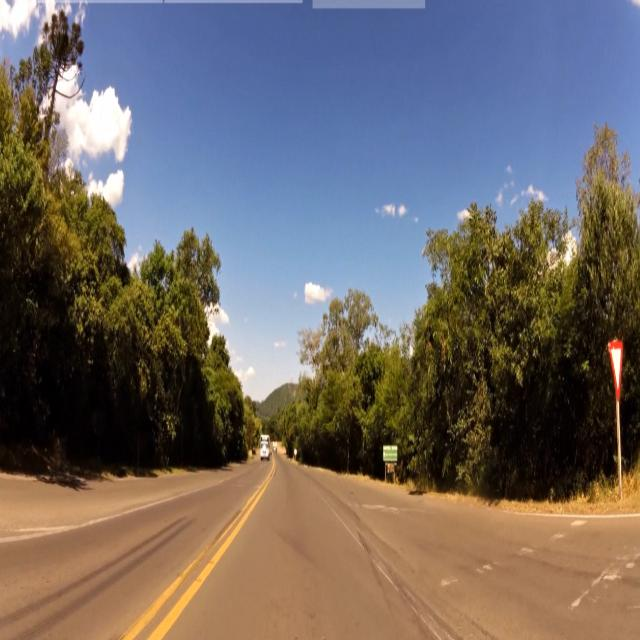R-2: (610, 338, 627, 401)
